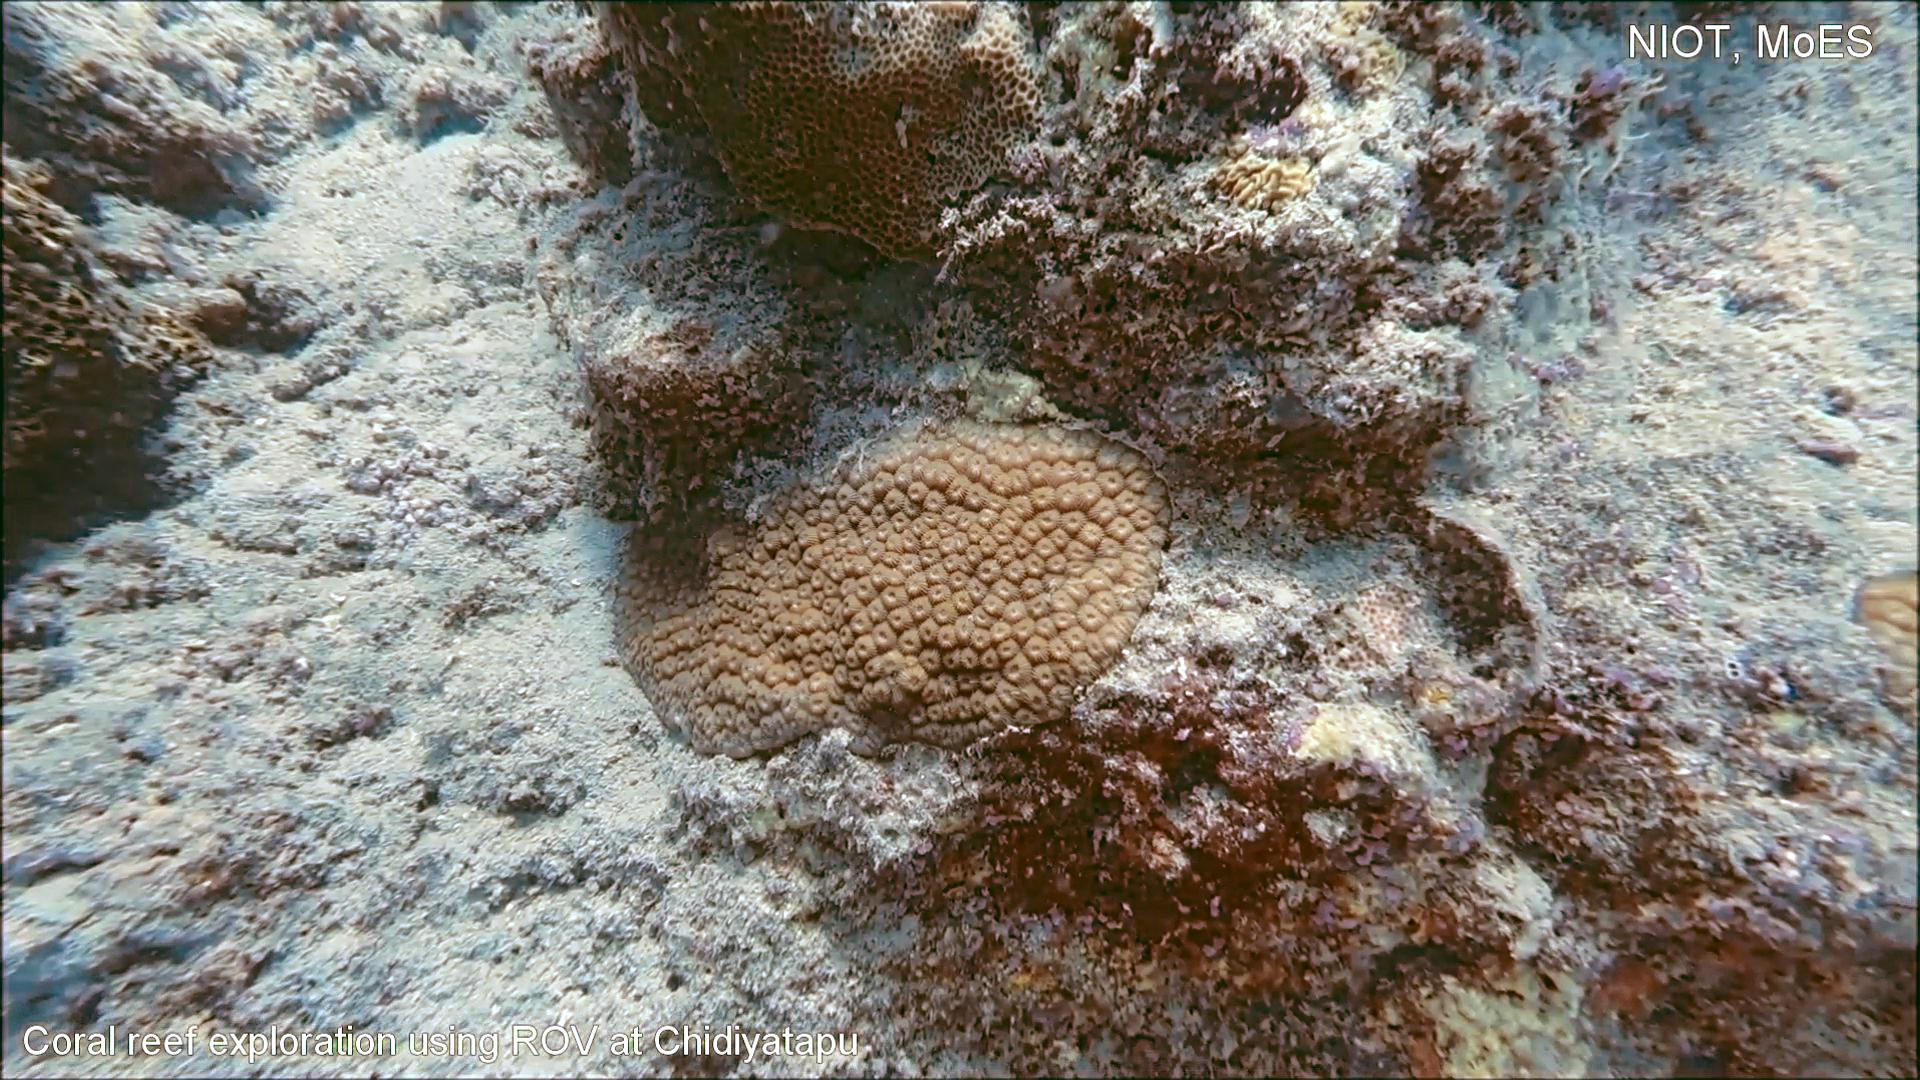Montastraea: (603, 401, 1183, 767), (1838, 558, 1920, 733)
